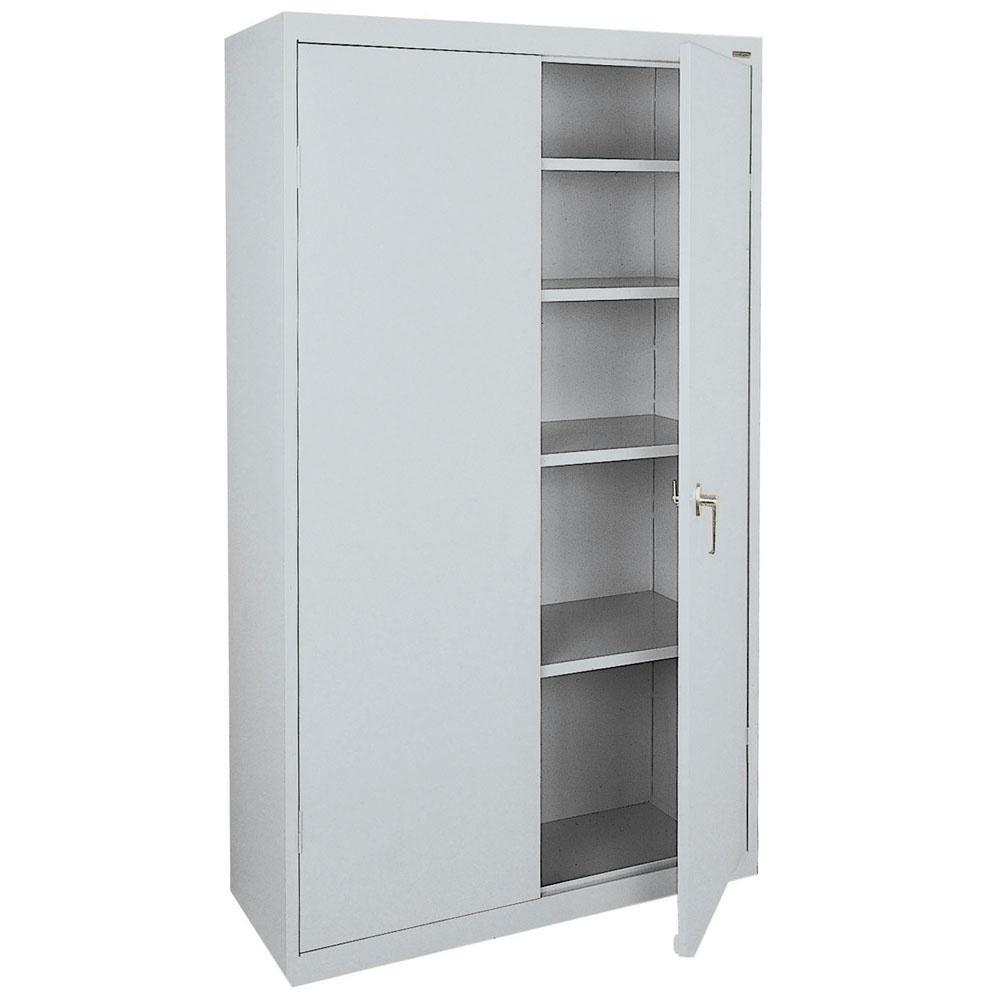cabinet_door: (304, 41, 546, 951), (677, 60, 741, 907)
handle: (698, 487, 723, 565)
